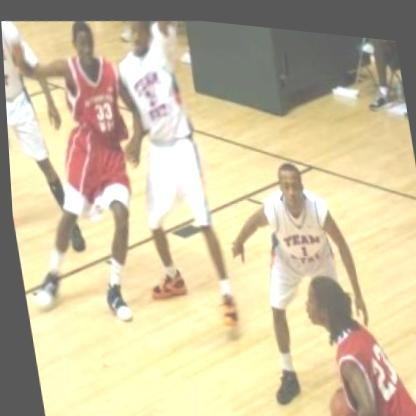basketball: (321, 374, 364, 416)
